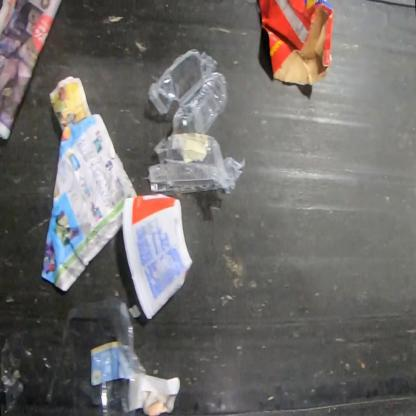cardboard: (257, 0, 335, 88)
rigid_plastic: (148, 50, 246, 196), (121, 193, 195, 320)
soft_plastic: (0, 295, 146, 415)
